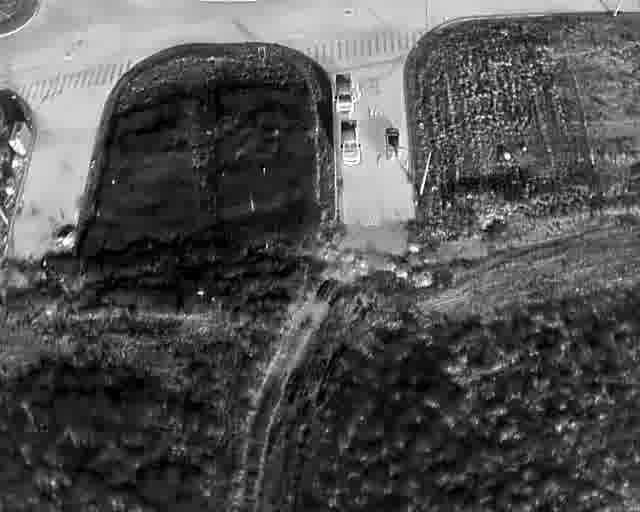car: (339, 118, 359, 165), (334, 71, 352, 112), (385, 126, 399, 160)
person: (376, 154, 382, 167), (355, 91, 360, 104), (355, 83, 360, 95), (391, 151, 396, 163), (373, 107, 378, 119), (405, 158, 409, 170), (368, 107, 372, 119)
